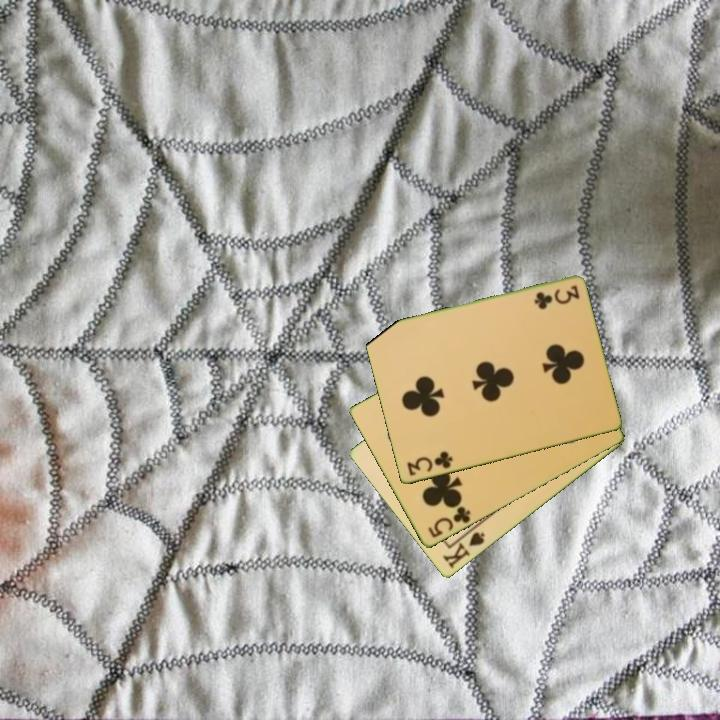3c: (403, 448, 455, 479), (530, 282, 582, 311)
5c: (424, 503, 473, 541)
Ks: (439, 523, 488, 572)
